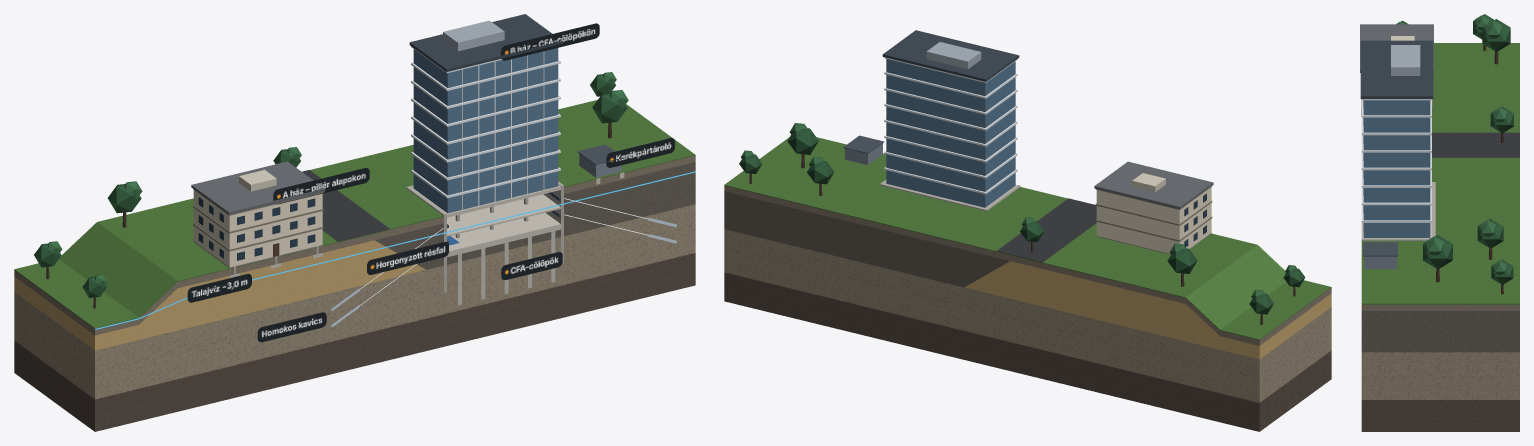
The model's file is egy-telek-feliratok.glb.
The picture shows the model from 3 angles, left to right: view 1: azimuth 30°, elevation 25°; view 2: azimuth 150°, elevation 25°; view 3: azimuth 270°, elevation 25°; orthographic projection. The views are drawn at different scales.
Parts seen in each view (by area): view 1: Egy_telek, Felirat (×7); view 2: Egy_telek; view 3: Egy_telek.
Boxes of the visible parts, x1=… form: Egy_telek: x1=14, y1=14, x2=695, y2=431; Felirat (×7): x1=187, y1=23, x2=674, y2=342; Egy_telek: x1=724, y1=30, x2=1331, y2=431; Egy_telek: x1=1360, y1=14, x2=1519, y2=431.
Size of the model in its own units: 0.7733 by 0.3527 by 0.182.
Materials: 60 (14 with a texture image).
